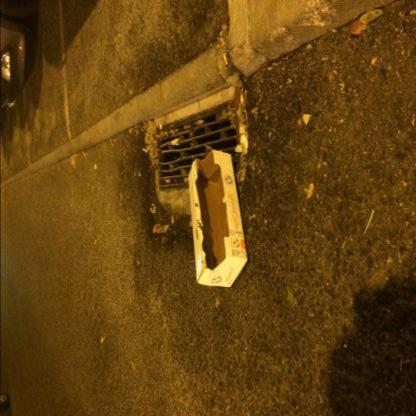Carton: (188, 149, 247, 287)
Cigarette: (223, 53, 228, 66)
